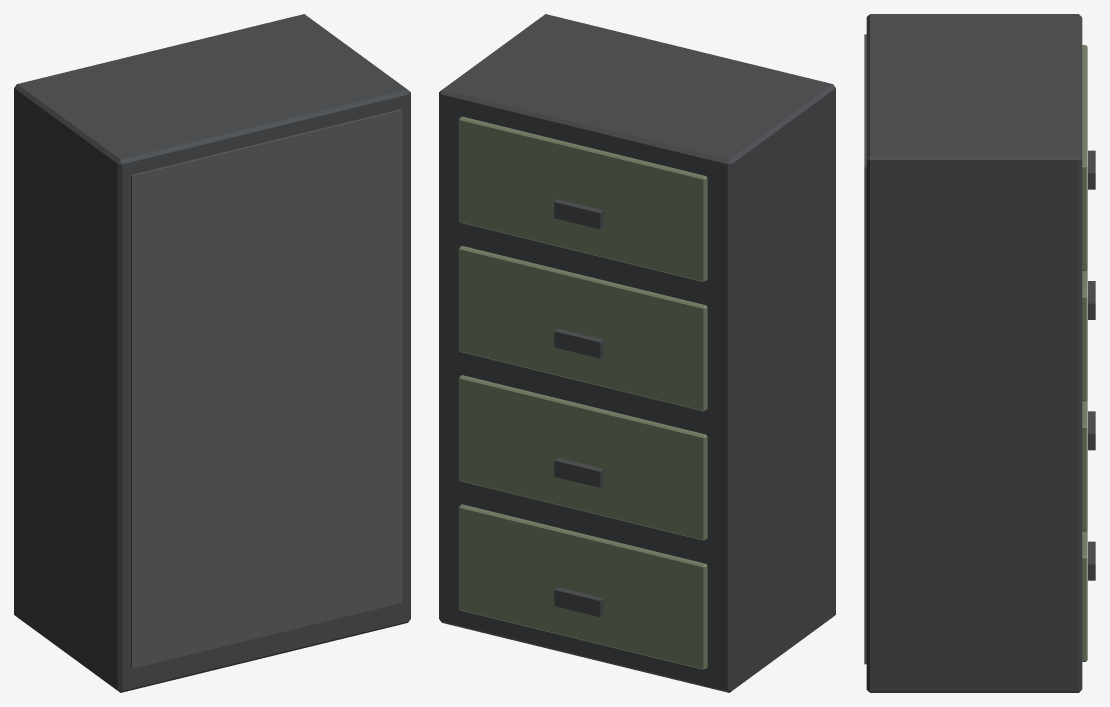
The model's file is file_cabinet.glb.
3 renders of one model, left to right at view 1: azimuth 30°, elevation 25°; view 2: azimuth 150°, elevation 25°; view 3: azimuth 270°, elevation 25°, orthographic.
Visible parts, largest first — view 1: file_cabinet; view 2: file_cabinet; view 3: file_cabinet.
Part boxes in pixels (bbox=[...]): file_cabinet: bbox=[14, 14, 410, 692]; file_cabinet: bbox=[439, 14, 835, 692]; file_cabinet: bbox=[864, 14, 1095, 692].
Bounding box in the file's own units: 0.76 × 1.32 × 0.515.
